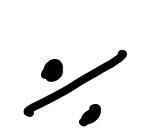div: (23, 48, 128, 127)
